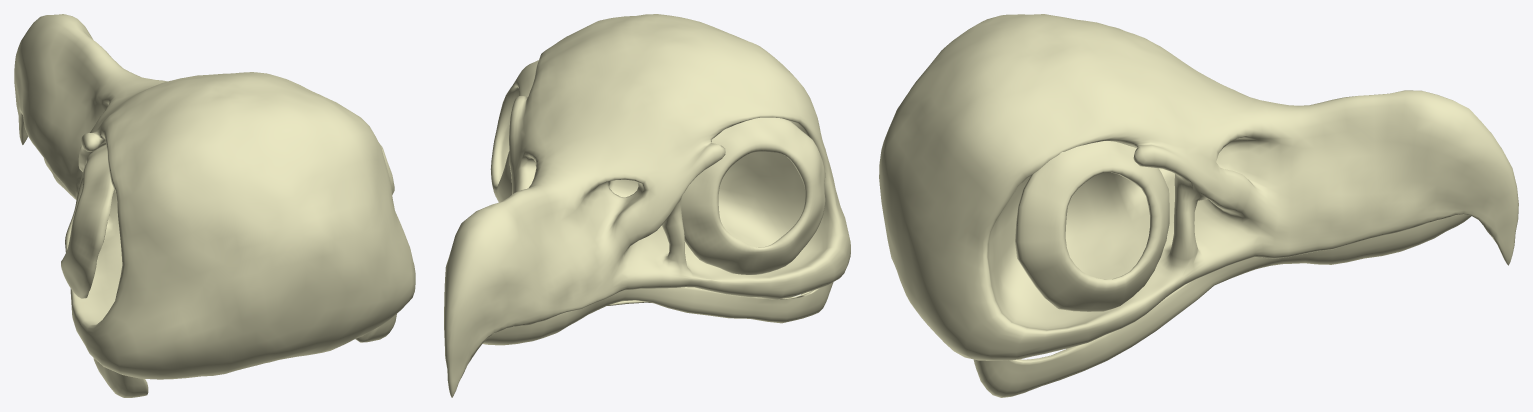
File: bosspin_copy.glb
3 views of the same model, side by side, from view 1: azimuth 30°, elevation 25°; view 2: azimuth 150°, elevation 25°; view 3: azimuth 270°, elevation 25° (orthographic). The views are drawn at different scales.
Parts seen in each view (by area): view 1: eagle head state 0, eagle eye left, eagle jar; view 2: eagle head state 0, eagle eye left, eagle jar; view 3: eagle head state 0, eagle eye left, eagle jar.
Part boxes in pixels (left/top/right/bottom): eagle head state 0: left=14, top=14, right=415, bottom=379; eagle eye left: left=61, top=143, right=394, bottom=298; eagle jar: left=44, top=158, right=396, bottom=397; eagle head state 0: left=444, top=14, right=850, bottom=397; eagle eye left: left=490, top=60, right=825, bottom=274; eagle jar: left=482, top=282, right=833, bottom=345; eagle head state 0: left=879, top=14, right=1518, bottom=360; eagle eye left: left=1015, top=141, right=1169, bottom=311; eagle jar: left=973, top=214, right=1471, bottom=397.
Bounding box in the file's own units: 2.89 × 2.37 × 4.6.
